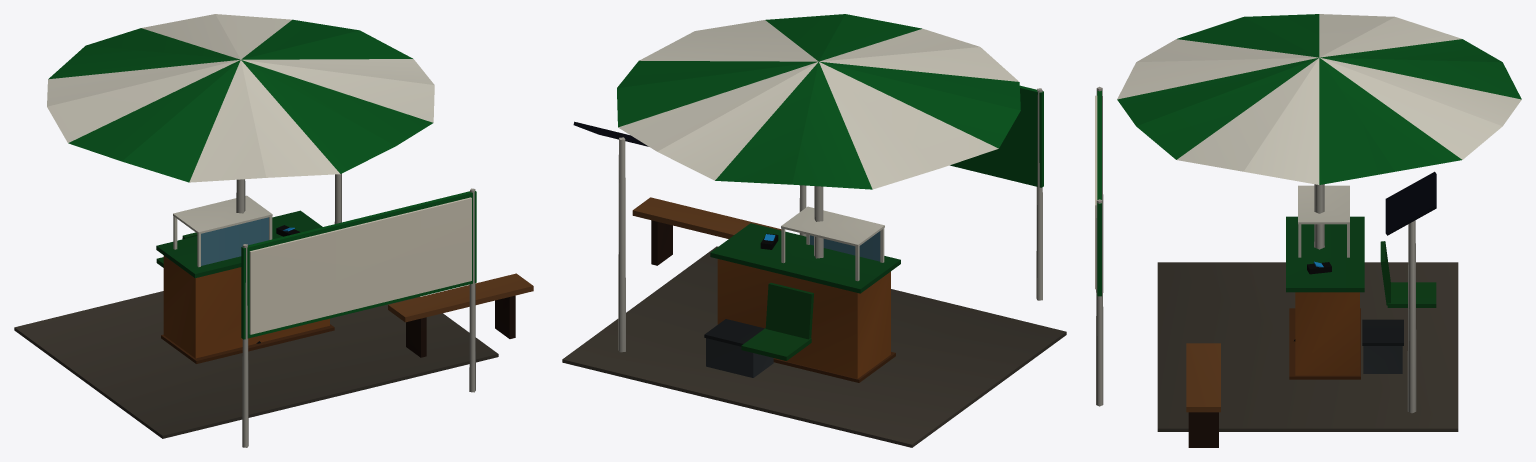
Rendered from ps_pos_lod1.glb.
3 views of the same model, side by side, from view 1: azimuth 30°, elevation 25°; view 2: azimuth 150°, elevation 25°; view 3: azimuth 270°, elevation 25° (orthographic). The views are drawn at different scales.
Visible parts, largest first — view 1: ps_pos_lod1; view 2: ps_pos_lod1; view 3: ps_pos_lod1.
Part boxes in pixels (x1,y1,x2,y2): ps_pos_lod1: [14, 14, 533, 447]; ps_pos_lod1: [562, 14, 1066, 447]; ps_pos_lod1: [1095, 14, 1521, 447].
Size of the model in its own units: 4.05 by 2.73 by 3.69.
